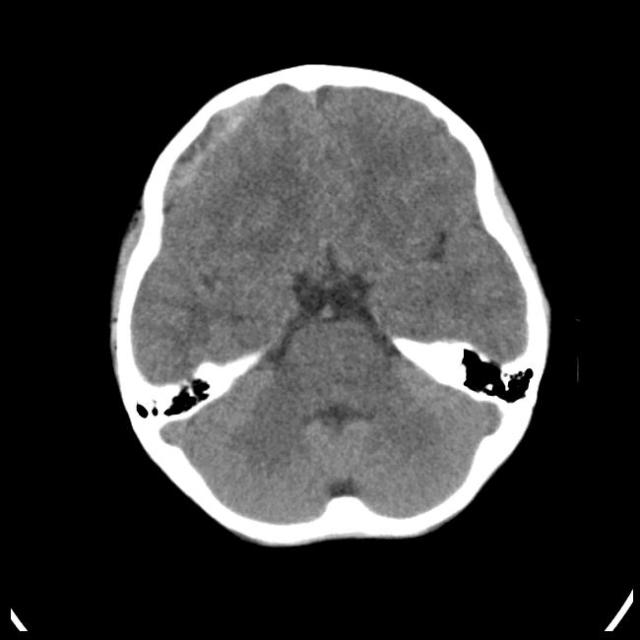lesion: (110, 66, 552, 546)
